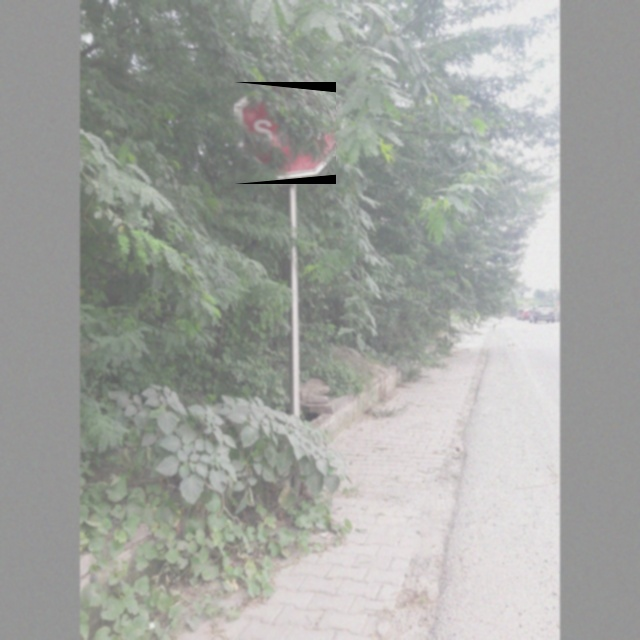Stop: (234, 82, 336, 184)
